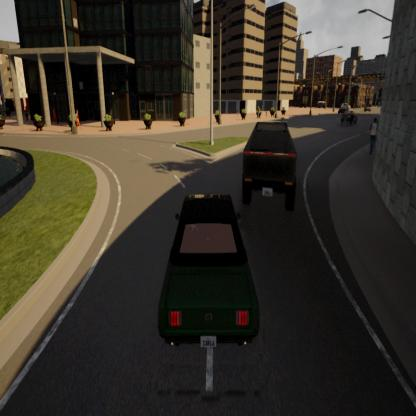Cars: (147, 184, 267, 359), (241, 114, 301, 219), (340, 108, 361, 129), (336, 102, 352, 116)
Pedestrian: (364, 111, 383, 159)
